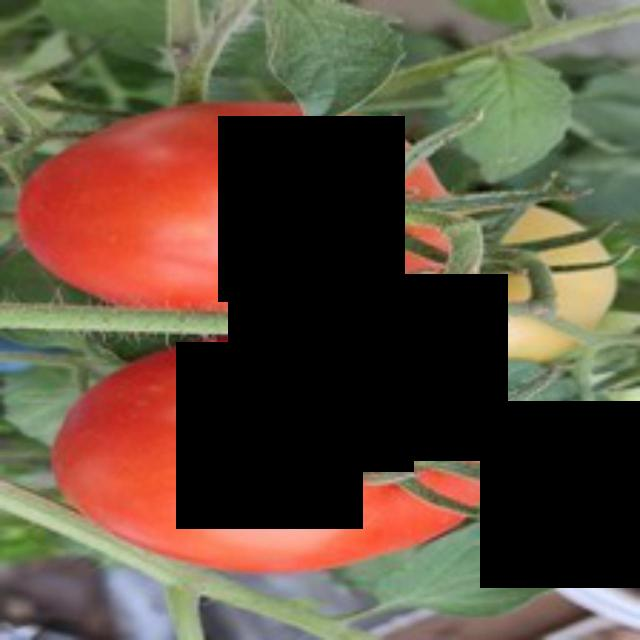tomato: (39, 339, 502, 581), (1, 95, 474, 320)
